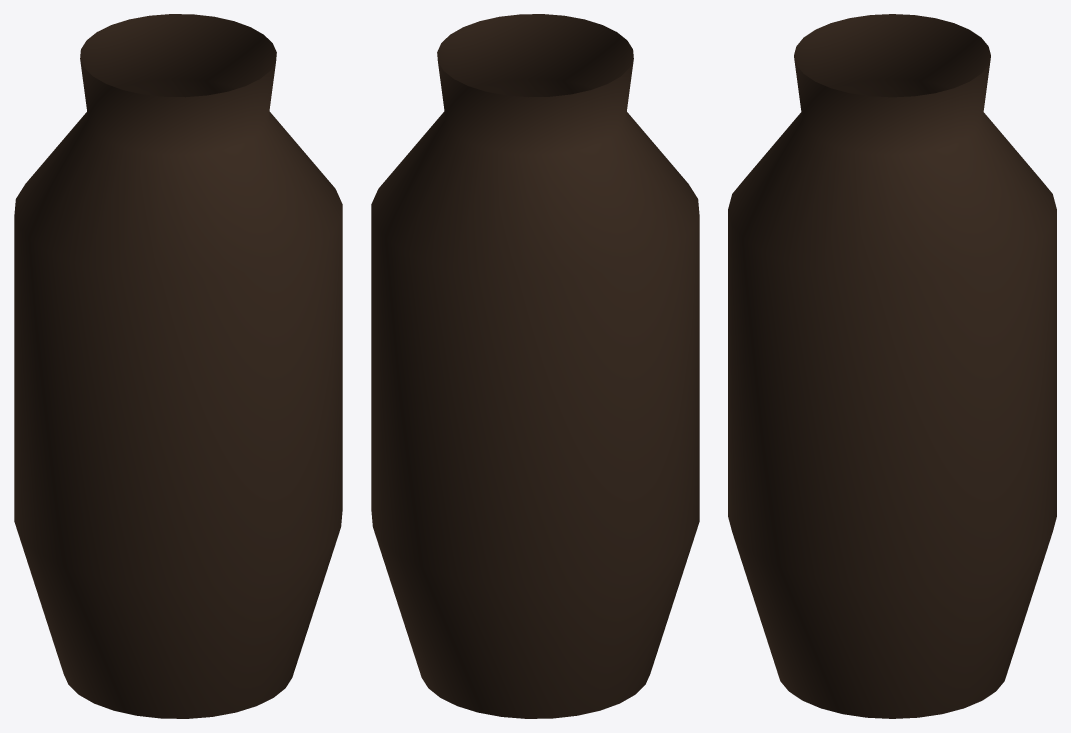
Rendered from BIB-VAS-std.glb.
3 views of the same model, side by side, from view 1: azimuth 30°, elevation 25°; view 2: azimuth 150°, elevation 25°; view 3: azimuth 270°, elevation 25° (orthographic).
Visible parts, largest first — view 1: BIB-VAS-std; view 2: BIB-VAS-std; view 3: BIB-VAS-std.
Boxes of the visible parts, left/top/right/bottom form: BIB-VAS-std: left=14, top=14, right=342, bottom=718; BIB-VAS-std: left=371, top=14, right=699, bottom=718; BIB-VAS-std: left=728, top=14, right=1056, bottom=718.
Bounding box in the file's own units: 0.16 × 0.33 × 0.16.
